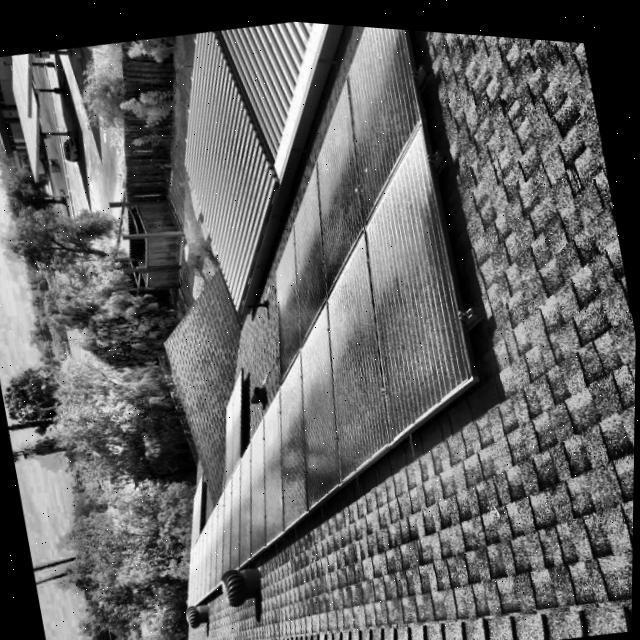Anomaly Solar Panel: (188, 21, 472, 607)
Surface Contaminant: (189, 21, 470, 605)
